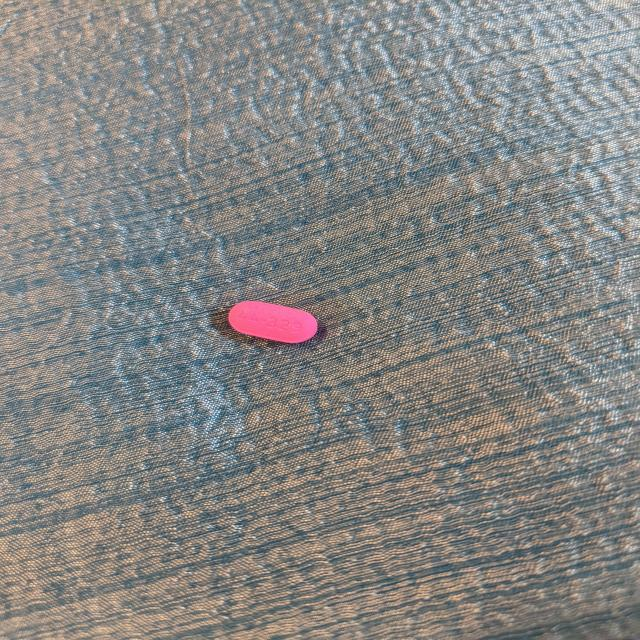non-organic waste: (228, 299, 318, 344)
